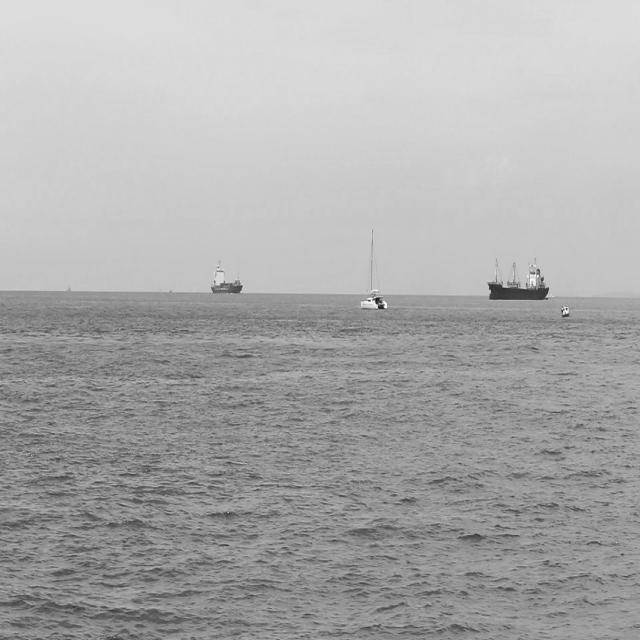boat: (360, 227, 389, 311)
ship: (488, 256, 550, 300), (210, 260, 243, 294), (560, 301, 570, 317)
